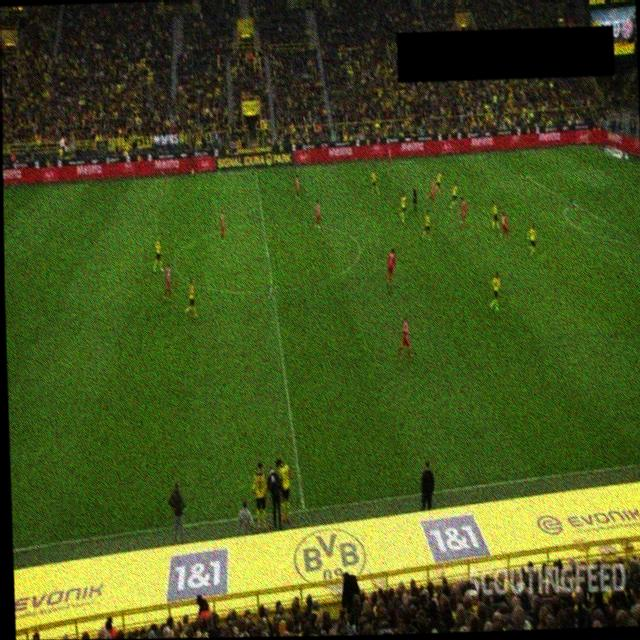bigarea_top_inner: (520, 170, 530, 181)
bigarea_top_outter: (636, 163, 640, 169)
corner: (580, 141, 591, 153)
halfcircle_bottom: (266, 285, 276, 295)
halfcircle_top: (258, 217, 268, 229)
midline_bottom_intersection: (295, 501, 309, 517)
midline_top_intersection: (250, 165, 260, 175)
top_arc_area_intersection: (567, 197, 577, 208)
